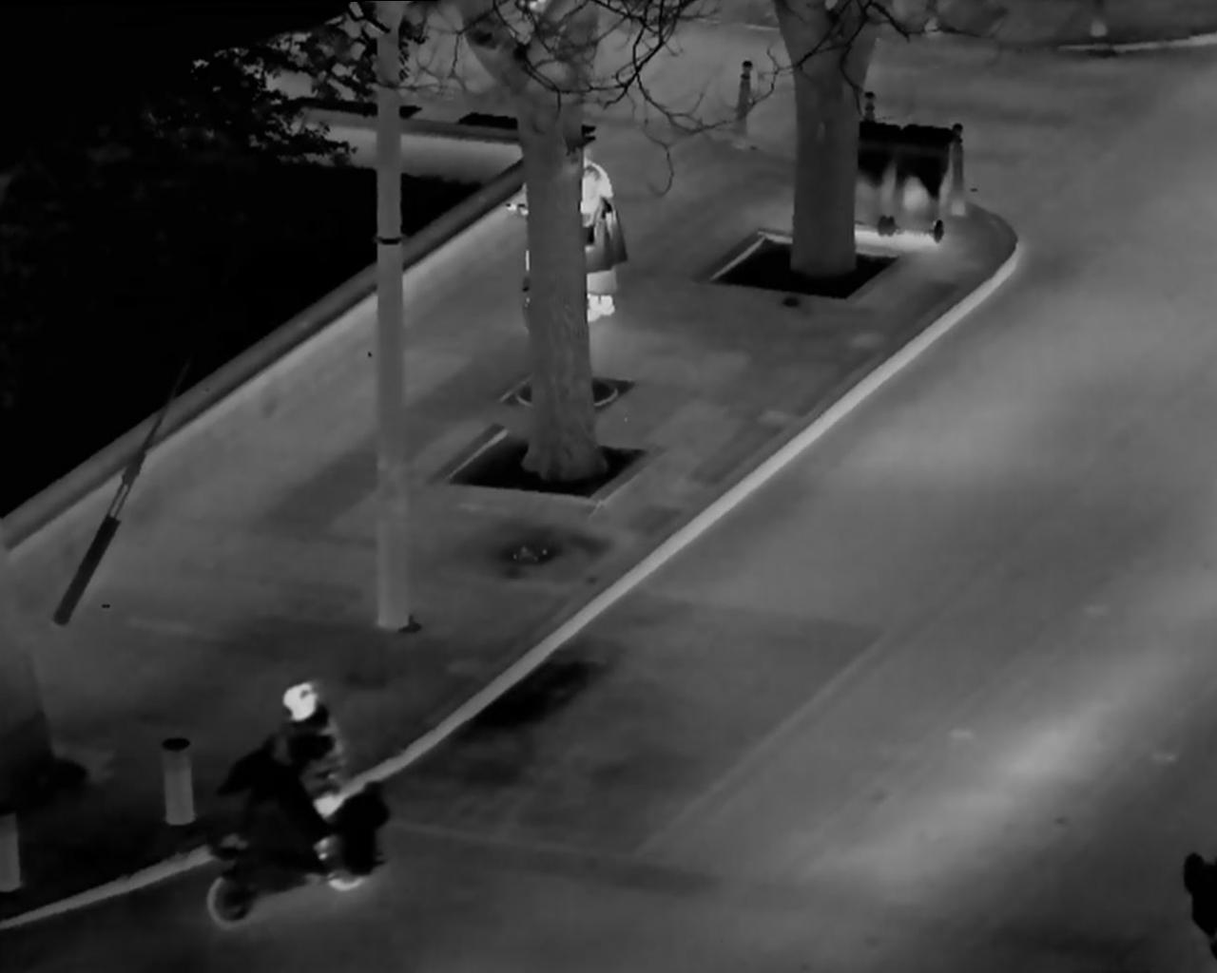person: (232, 684, 374, 891), (573, 144, 632, 344)
